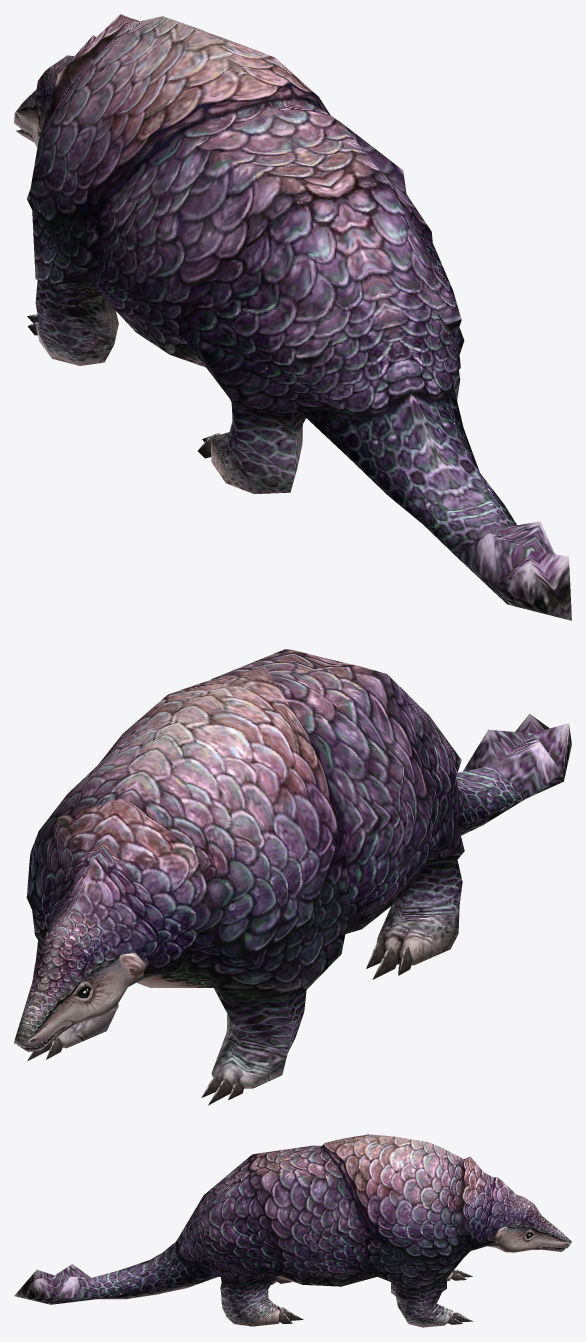
The model's file is 【宠物】穿山甲.glb.
3 views of the same model, one above another, from view 1: azimuth 30°, elevation 25°; view 2: azimuth 150°, elevation 25°; view 3: azimuth 270°, elevation 25° (orthographic). The views are drawn at different scales.
Visible parts, largest first — view 1: Mesh_1778.rip_noesis_meshnode_0000; view 2: Mesh_1778.rip_noesis_meshnode_0000; view 3: Mesh_1778.rip_noesis_meshnode_0000.
Part boxes in pixels (<box>): Mesh_1778.rip_noesis_meshnode_0000: <box>14,14,571,620</box>; Mesh_1778.rip_noesis_meshnode_0000: <box>14,649,571,1105</box>; Mesh_1778.rip_noesis_meshnode_0000: <box>14,1134,571,1327</box>.
Size of the model in its own units: 0.7103 by 0.7684 by 2.39.
1 material, 1 textured.
